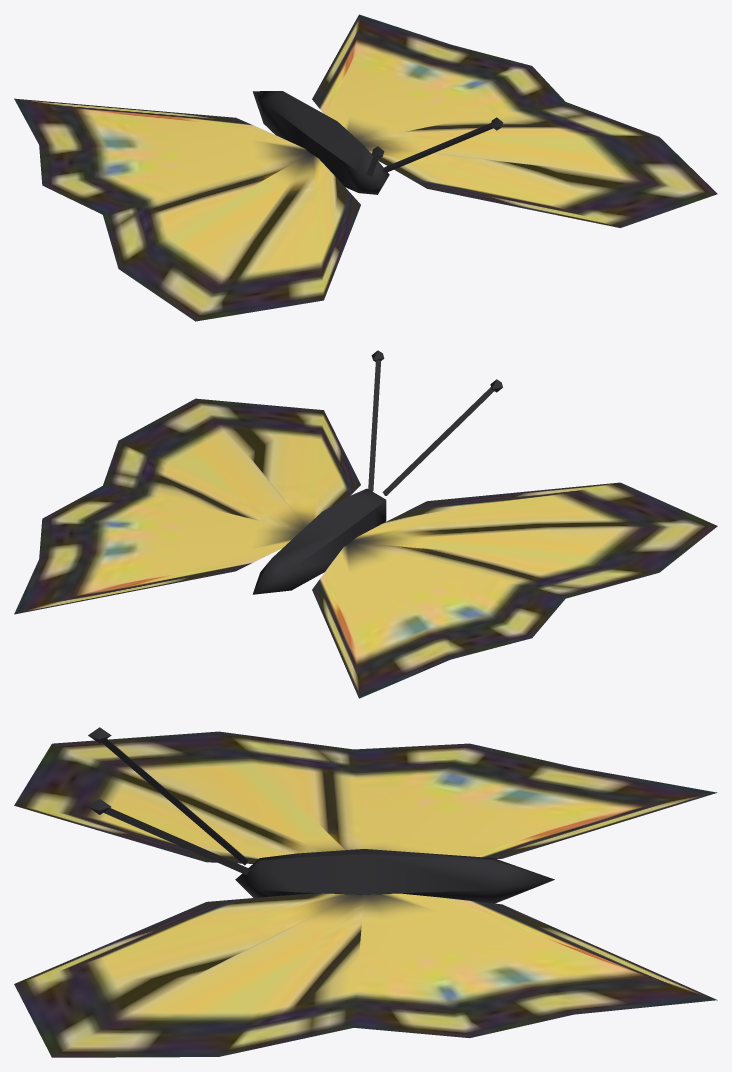
Rendered from tiger-butterfly.glb.
The picture shows the model from 3 angles, top to bottom: view 1: azimuth 30°, elevation 25°; view 2: azimuth 150°, elevation 25°; view 3: azimuth 270°, elevation 25°; orthographic projection. The views are drawn at different scales.
Visible parts, largest first — view 1: tiger-butterfly; view 2: tiger-butterfly; view 3: tiger-butterfly.
Part boxes in pixels (x1,y1,x2,y2): tiger-butterfly: (14, 14, 717, 321); tiger-butterfly: (14, 350, 717, 698); tiger-butterfly: (14, 727, 717, 1057).
Size of the model in its own units: 5.34 by 1.13 by 4.88.
2 materials, 1 textured.
